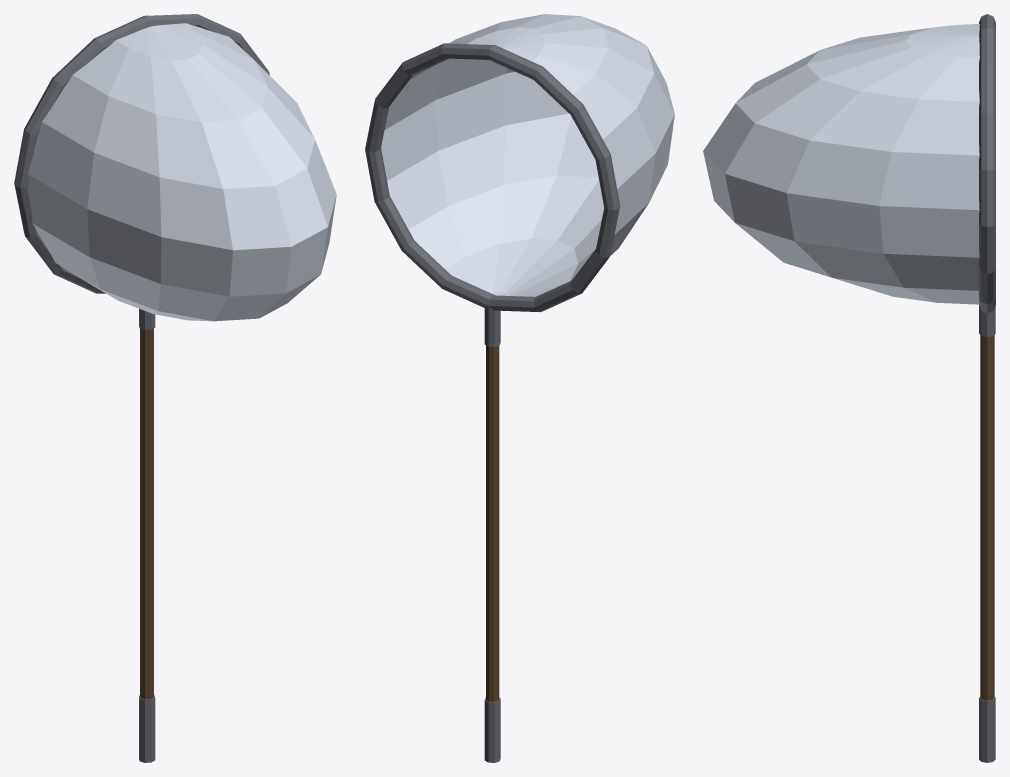
File: Net.fbx
The picture shows the model from 3 angles, left to right: view 1: azimuth 30°, elevation 25°; view 2: azimuth 150°, elevation 25°; view 3: azimuth 270°, elevation 25°; orthographic projection. The views are drawn at different scales.
Visible parts, largest first — view 1: CurrentUnityNet; view 2: CurrentUnityNet; view 3: CurrentUnityNet.
Part boxes in pixels (<box>): CurrentUnityNet: <box>14,14,336,762</box>; CurrentUnityNet: <box>365,14,674,762</box>; CurrentUnityNet: <box>703,14,995,762</box>.
Bounding box in the file's own units: 53 × 143 × 51.79.
